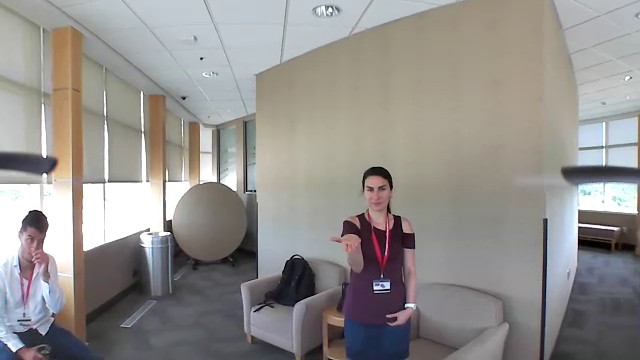land: (325, 229, 364, 255)
